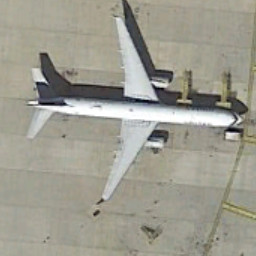Airplane: (22, 7, 246, 210)
